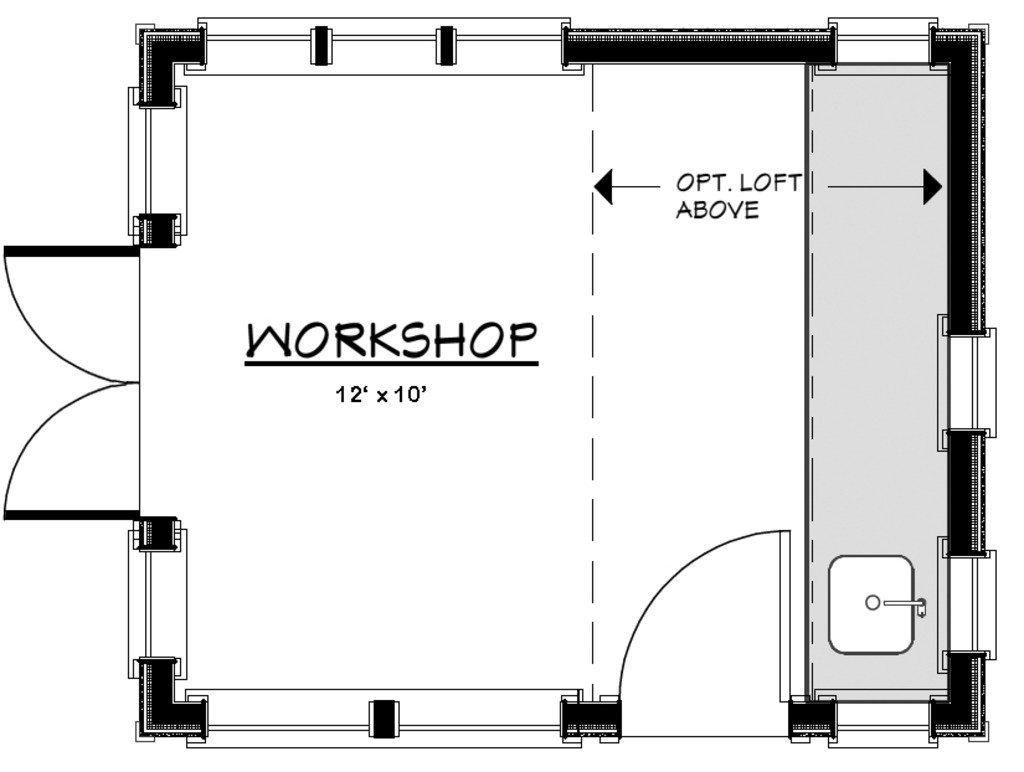door: (1, 246, 146, 518), (605, 526, 791, 735)
sink: (827, 542, 930, 659)
window: (814, 6, 971, 96), (126, 523, 195, 683), (121, 84, 190, 236), (937, 534, 1019, 661), (814, 681, 949, 754), (936, 323, 991, 461)
